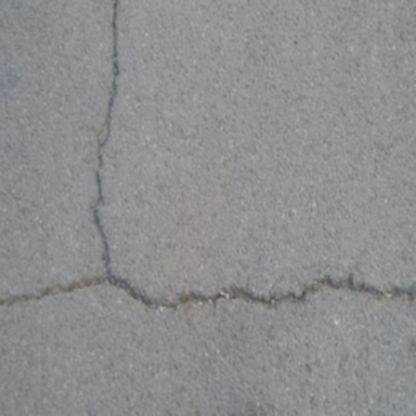SurfaceCrack: (5, 0, 408, 319)
